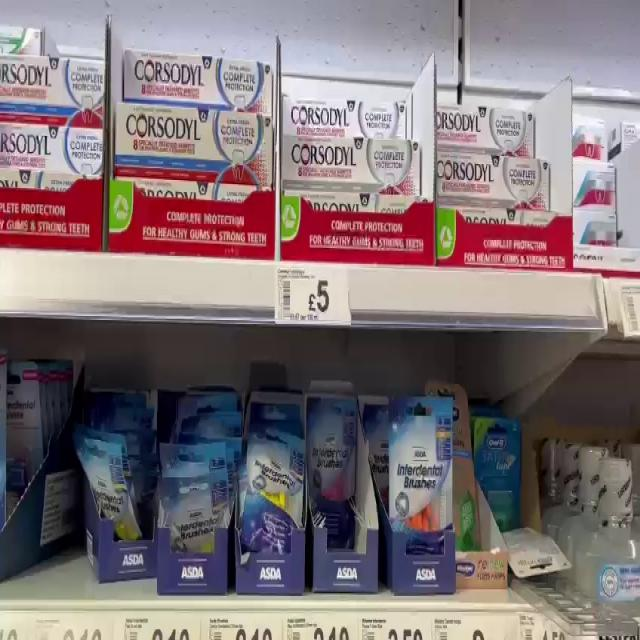Other: (385, 384, 462, 589), (158, 405, 234, 570), (68, 420, 145, 578), (234, 405, 301, 582), (576, 461, 640, 640), (306, 390, 370, 562)
Toothpaste: (106, 100, 281, 188), (119, 40, 277, 118), (275, 132, 428, 203), (429, 145, 563, 213), (426, 87, 546, 160), (272, 87, 421, 140), (0, 59, 105, 129), (0, 118, 103, 182)
